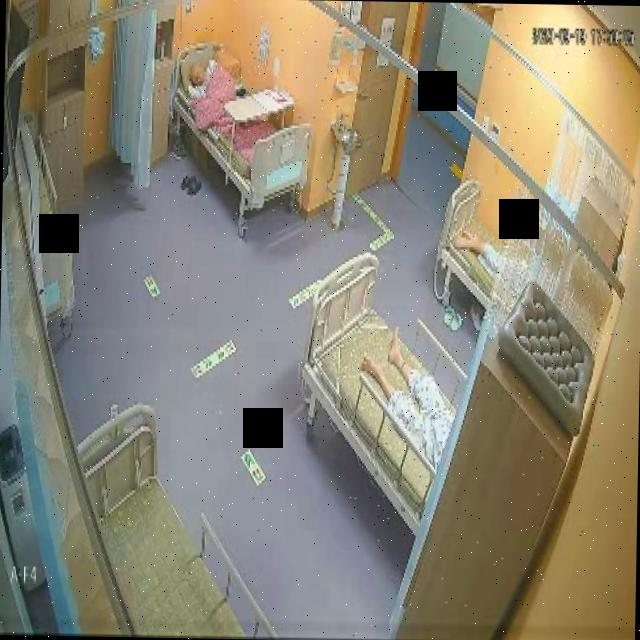bed: (72, 404, 282, 640), (298, 252, 460, 530), (166, 39, 314, 210), (439, 178, 504, 310)
lie: (359, 321, 456, 466)
patient: (361, 320, 458, 464), (186, 56, 220, 100)
